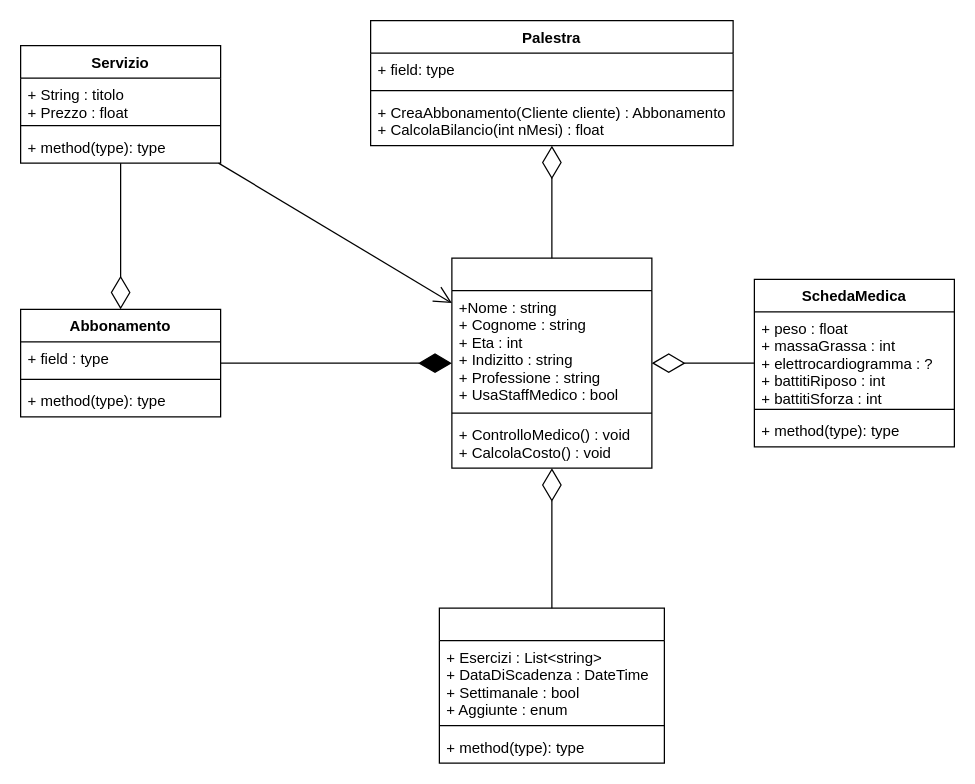
Image size: 975x784. Some labels were removed from this diagram. The box of each missing label's shape, as (x1, y1, x2, y2) in pixels:
Cliente: (451, 257, 652, 468)
Scheda: (438, 607, 664, 763)
